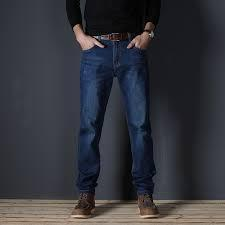pants: (76, 38, 158, 196)
